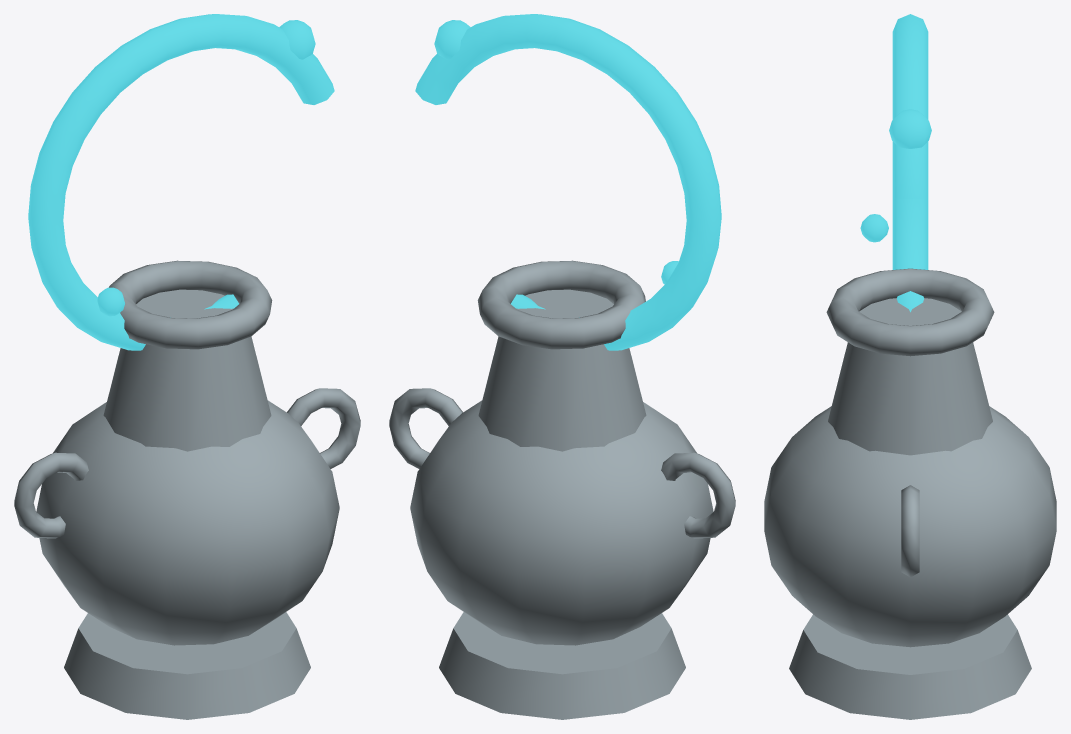
Rendered from mizuki.glb.
3 renders of one model, left to right at view 1: azimuth 30°, elevation 25°; view 2: azimuth 150°, elevation 25°; view 3: azimuth 270°, elevation 25°, orthographic.
Bounding box in the file's own units: 1.1 × 1.97 × 0.8189.
